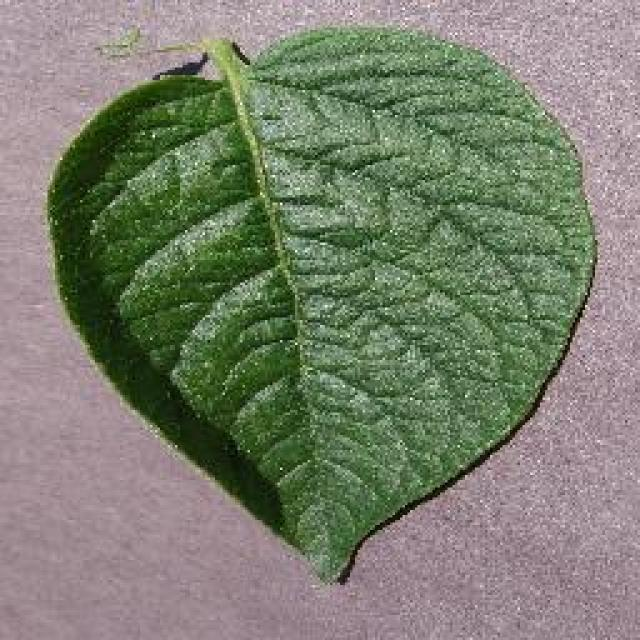Potato___healthy: (43, 21, 600, 590)
